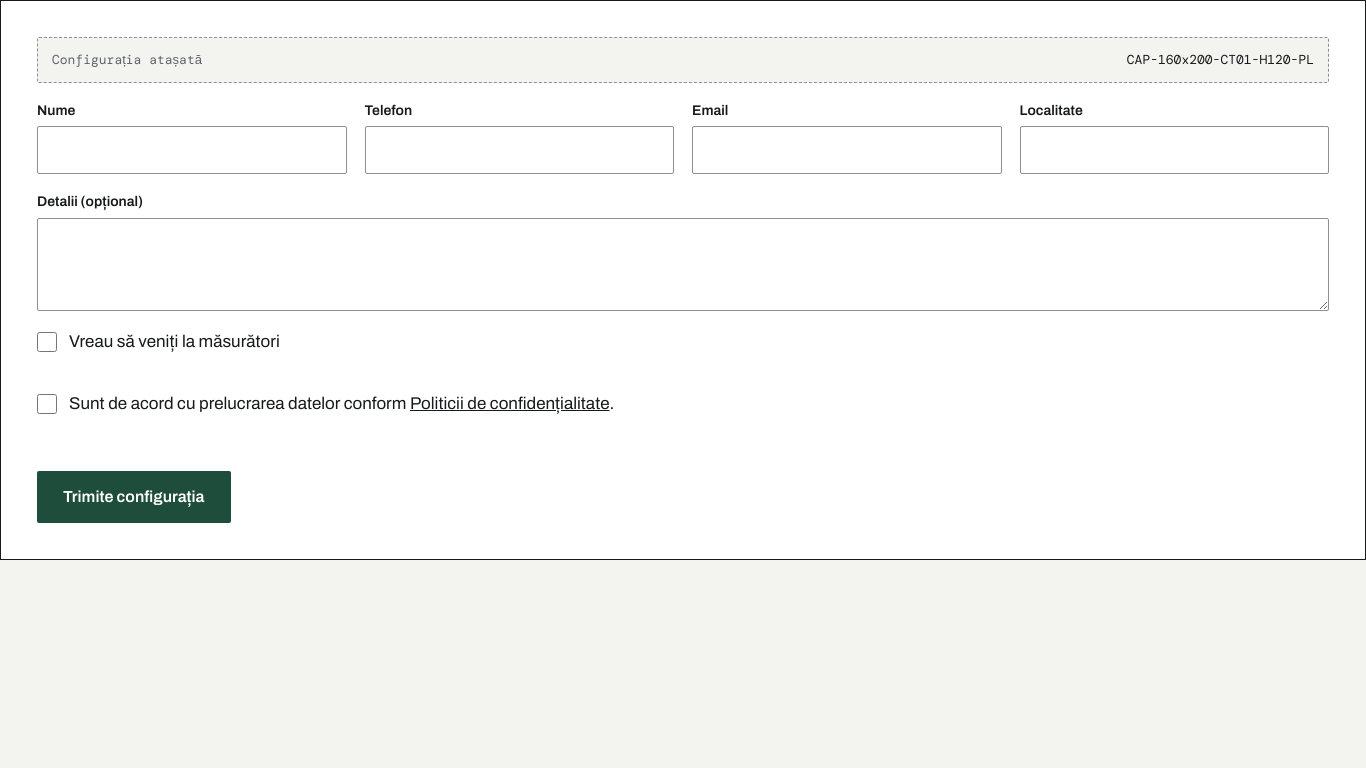
it: QuoteForm › shows a server error message and the server's field errors
Step 1. Type "Ana Pop" into the field labelled "Nume" → (192, 150), box x1=37 y1=126 x2=346 y2=174
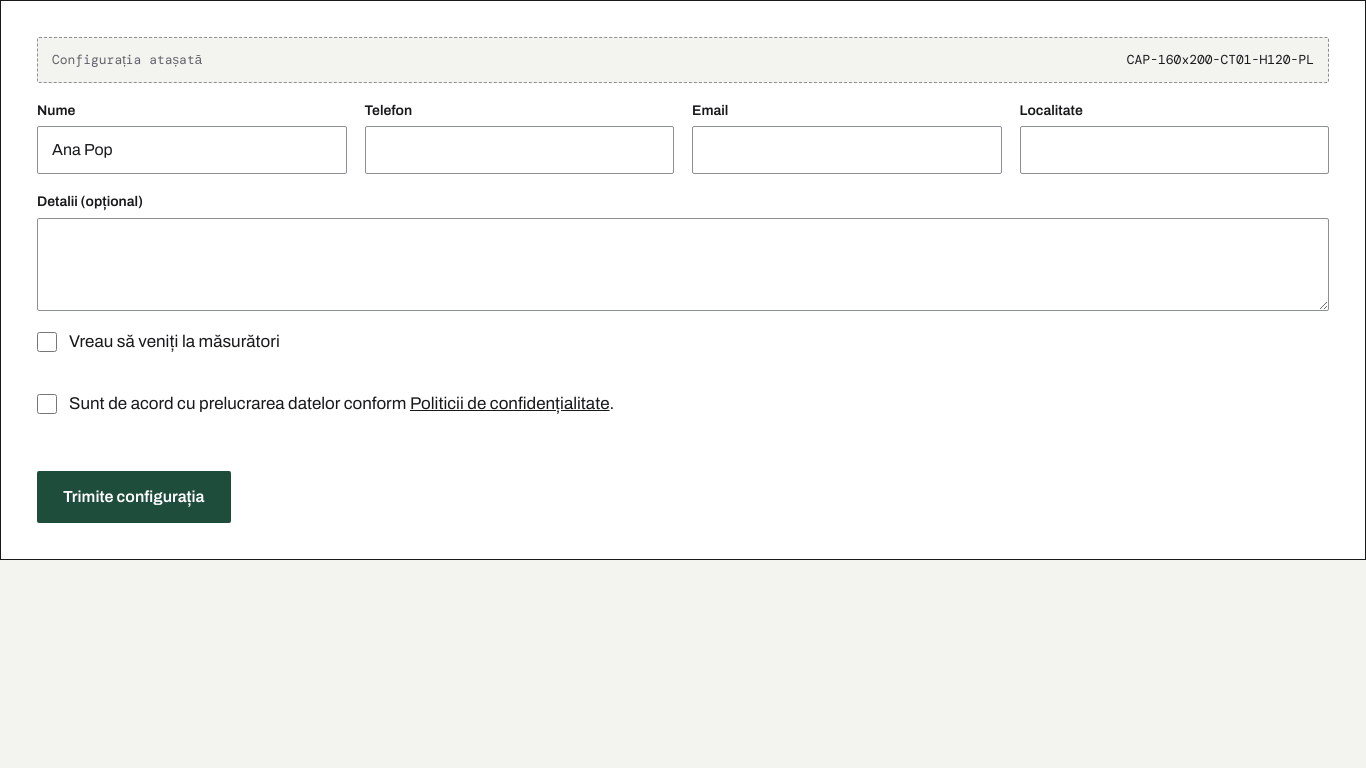
Step 2. Type "0722 123 456" into the field labelled "Telefon" → (519, 150), box x1=364 y1=126 x2=674 y2=174
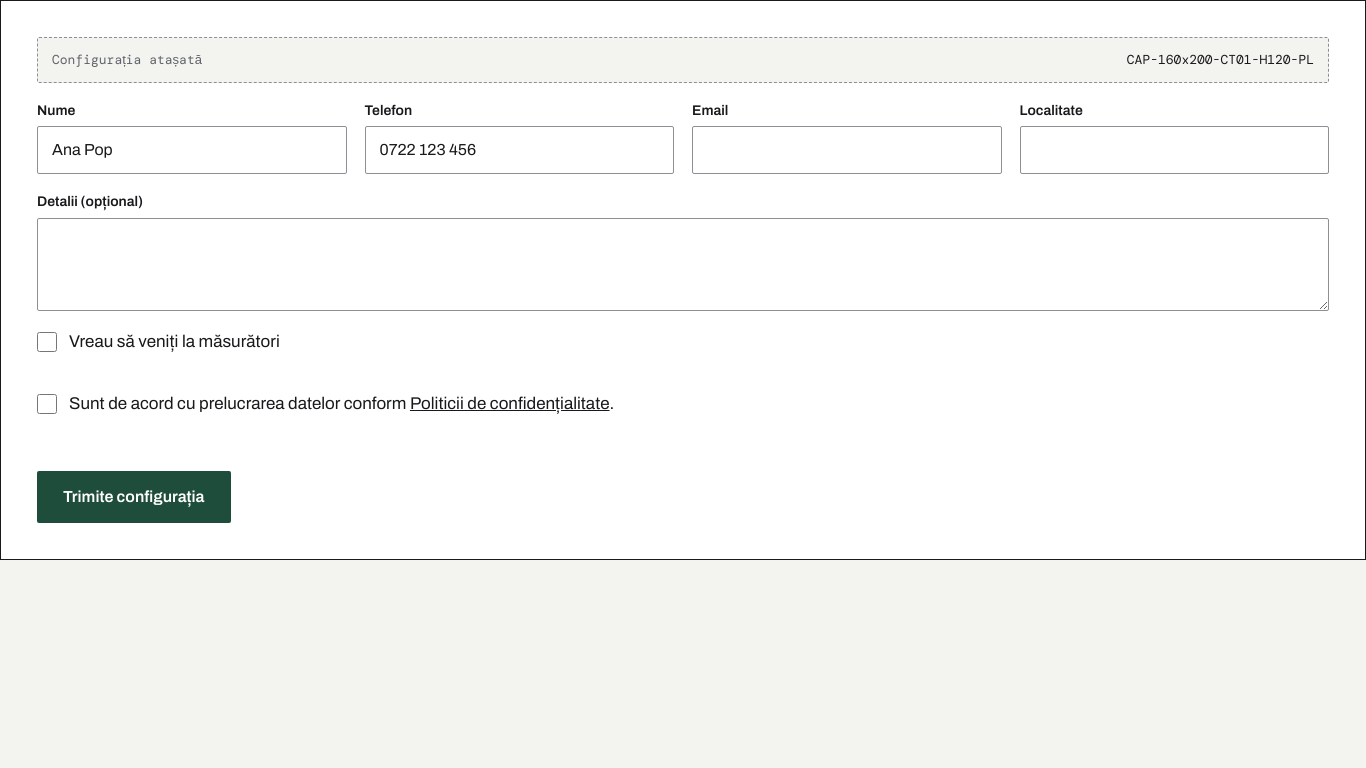
Step 3. Type "ana@example.com" into the field labelled "Email" → (847, 150), box x1=692 y1=126 x2=1002 y2=174
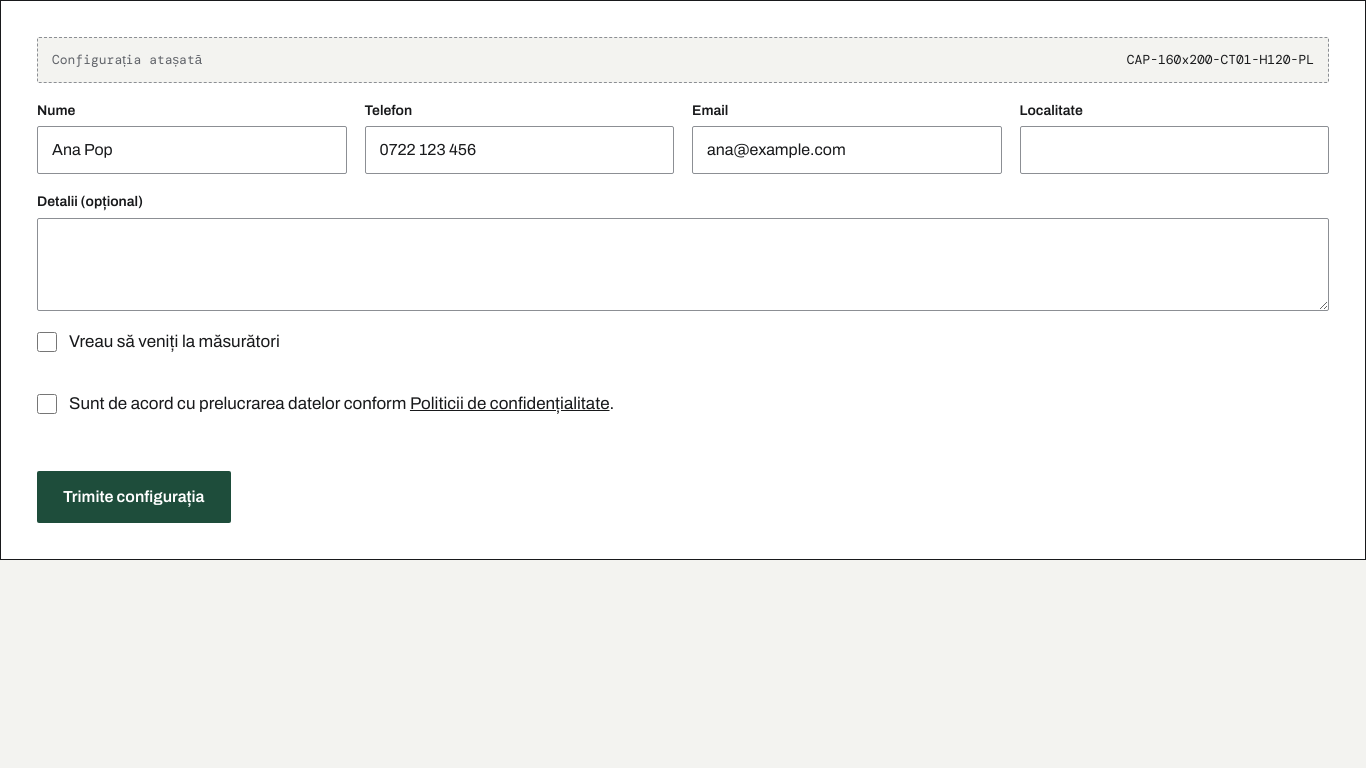
Step 4. Click the checkbox labelled "Sunt de acord" → click(47, 404), box x1=37 y1=394 x2=57 y2=414
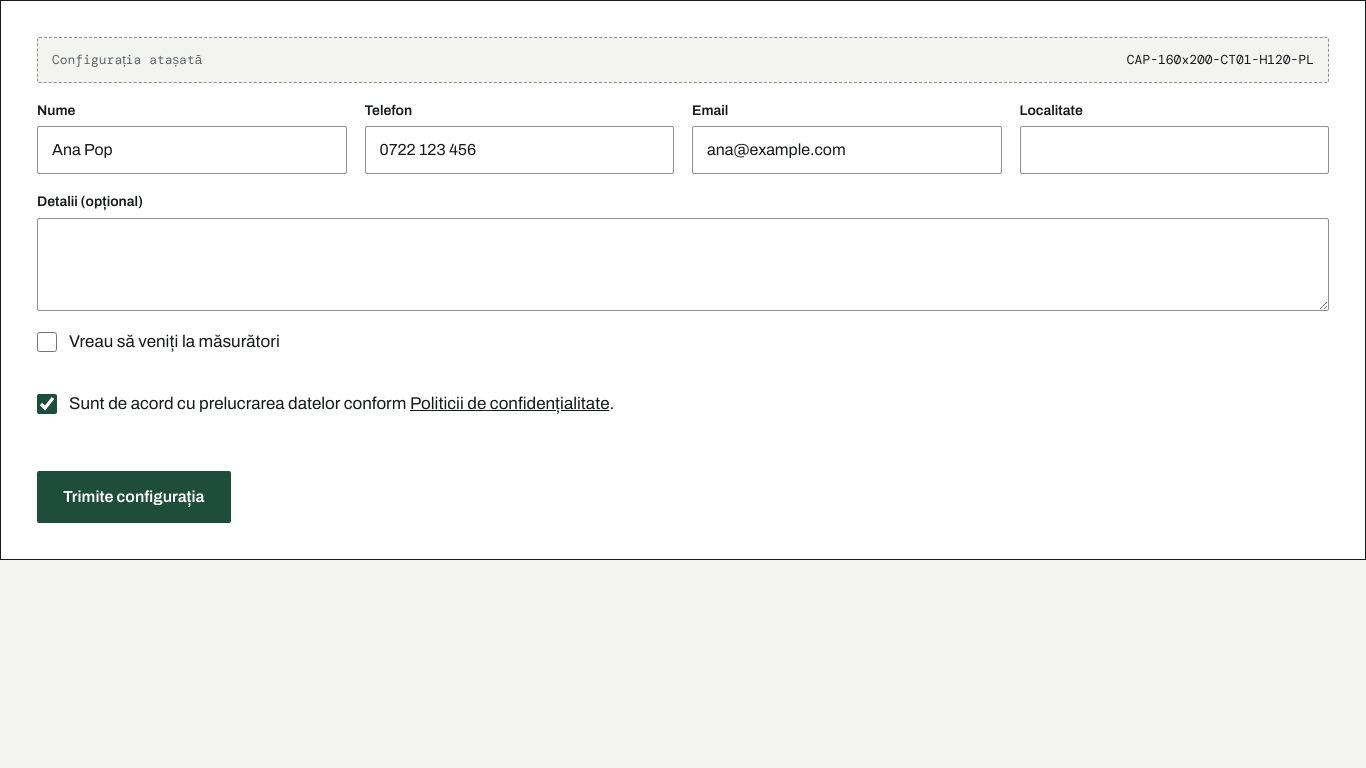
Step 5. Click the button "Trimite configurația" → click(134, 497), box x1=37 y1=471 x2=230 y2=523
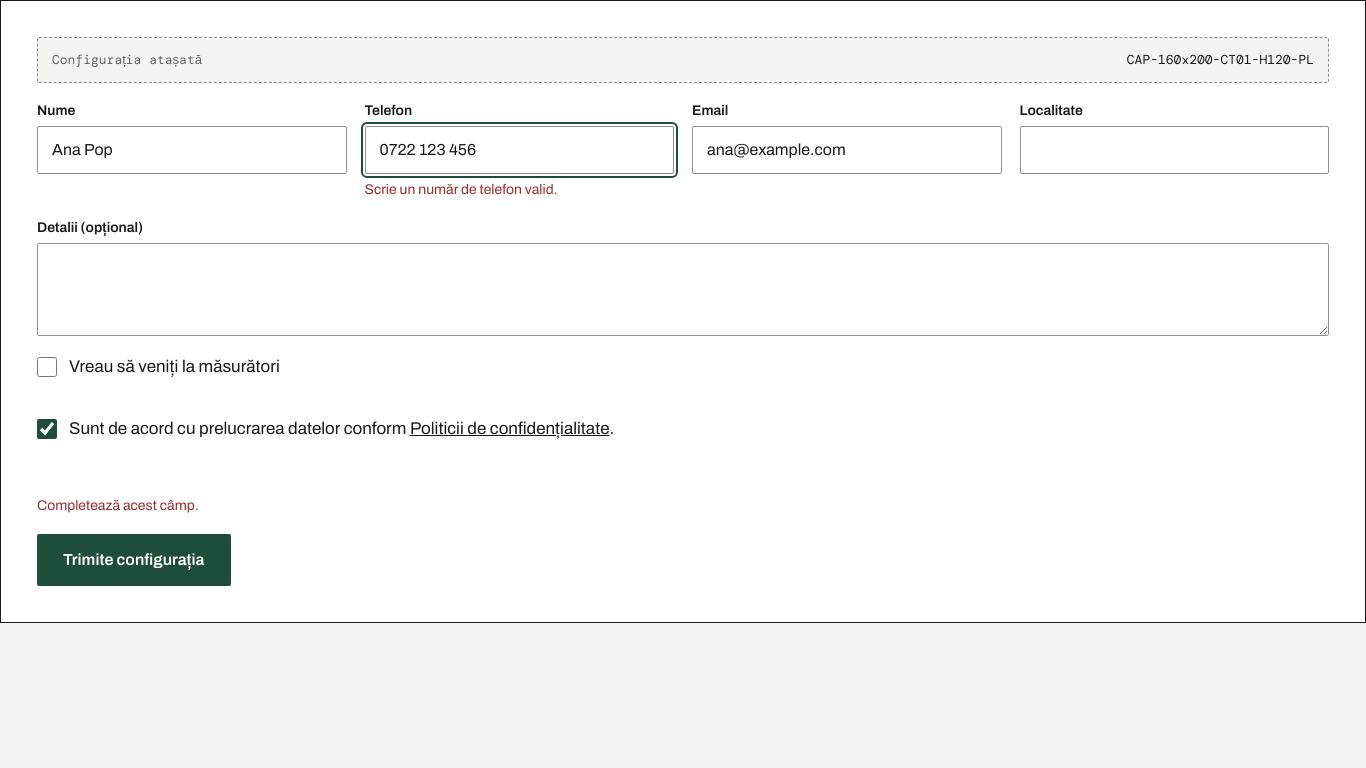
Expected: the button "Trimite configurația" is enabled, x1=37 y1=534 x2=230 y2=586
Expected: the message reads "Completează acest câmp.", x1=37 y1=498 x2=198 y2=514
